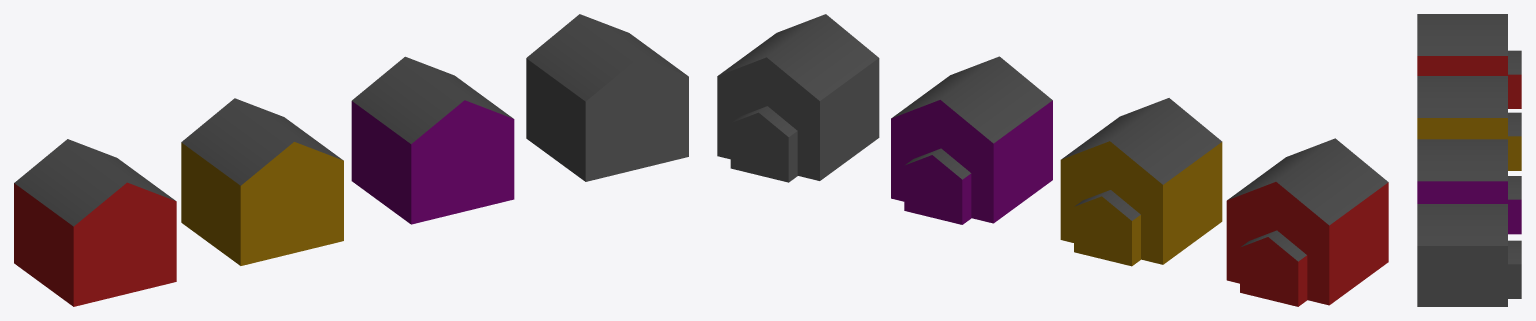
Rendered from House Set 1.fbx.
3 renders of one model, left to right at view 1: azimuth 30°, elevation 25°; view 2: azimuth 150°, elevation 25°; view 3: azimuth 270°, elevation 25°, orthographic. The views are drawn at different scales.
Visible parts, largest first — view 1: polySurface8; view 2: polySurface8; view 3: polySurface8.
Boxes of the visible parts, x1=… form: polySurface8: x1=14, y1=14, x2=688, y2=306; polySurface8: x1=717, y1=14, x2=1388, y2=306; polySurface8: x1=1417, y1=14, x2=1521, y2=306.
Bounding box in the file's own units: 12.24 × 2.13 × 2.36.
